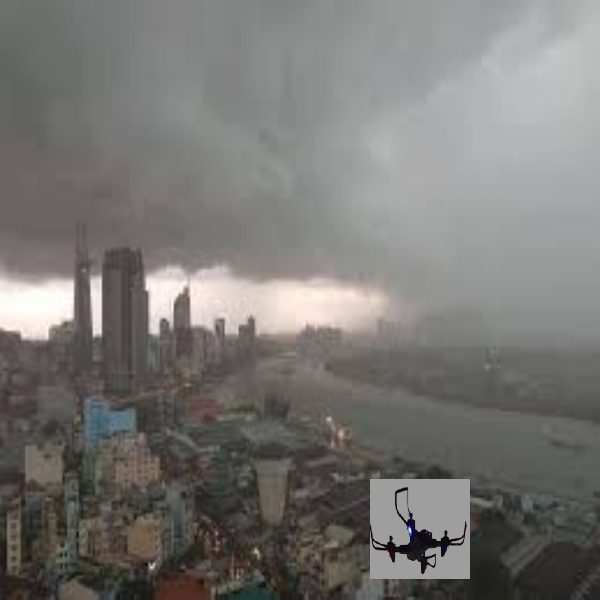drone: (372, 478, 469, 577)
